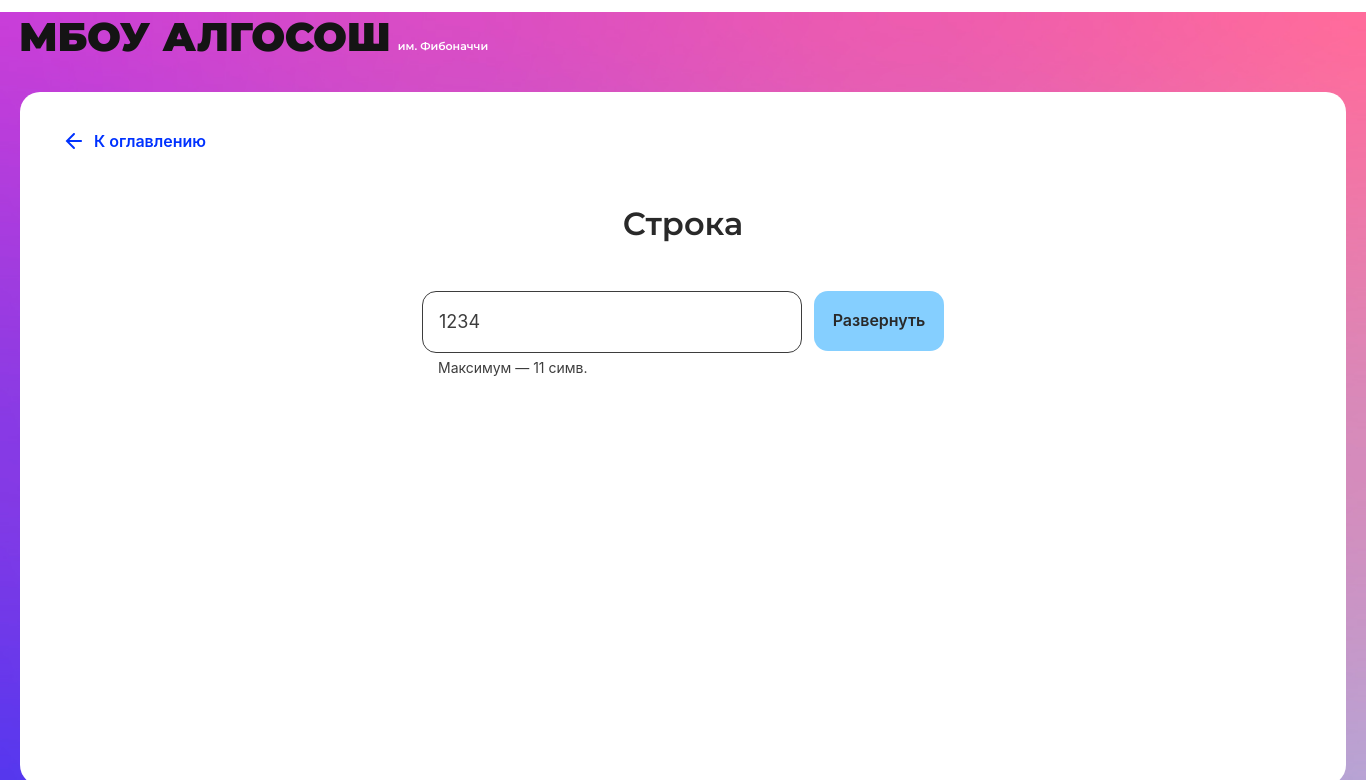
Scenario: string test › button is disabled when input has cleared
Clear the field at (612, 322), box [422, 291, 802, 353]
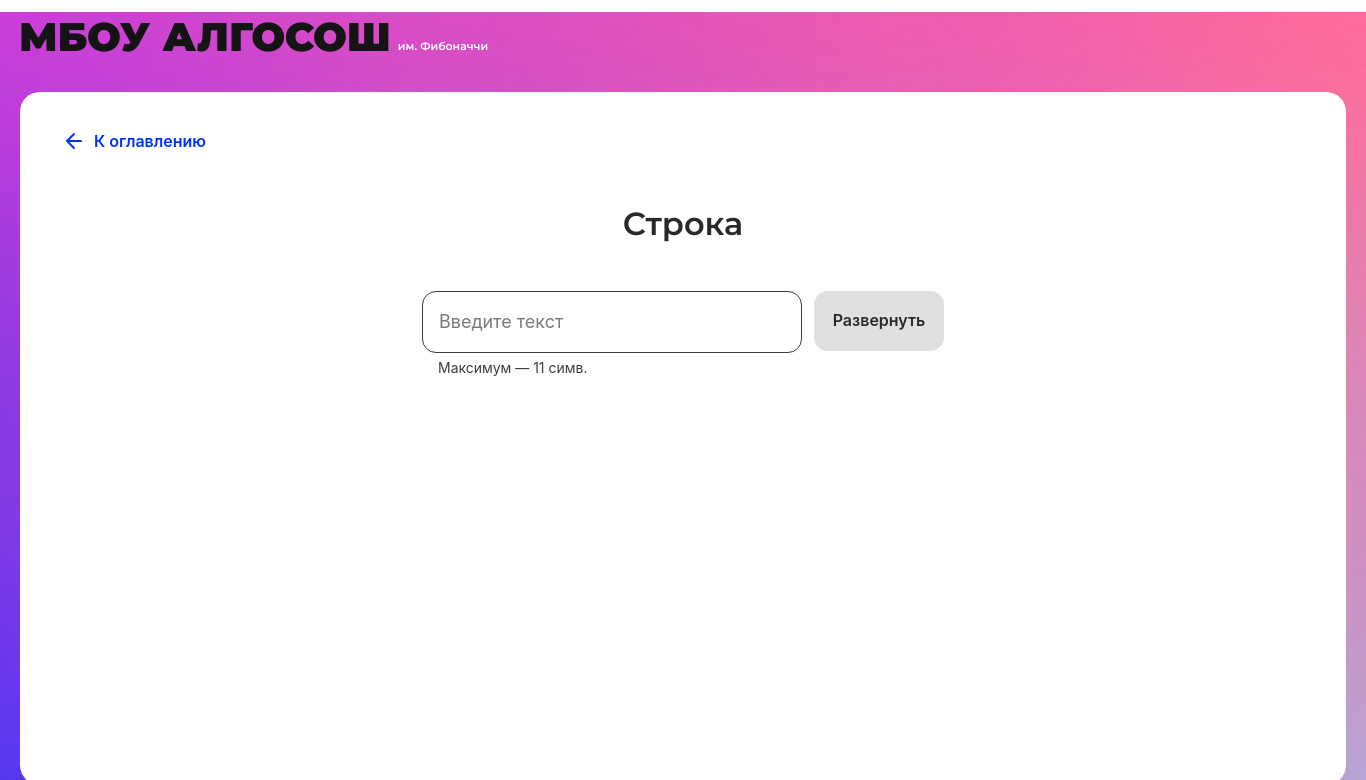
expect the button named "add" is disabled: met, box [814, 291, 944, 351]
